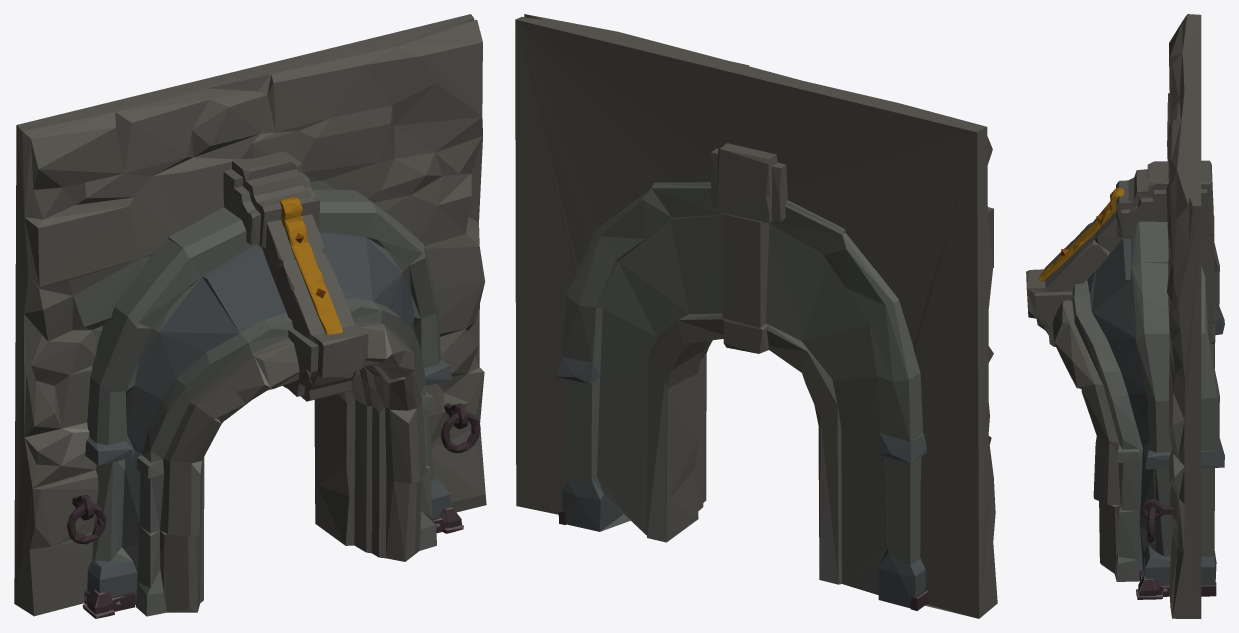
The model's file is MDungeons_Walls_Door_01.FBX.
The picture shows the model from 3 angles, left to right: view 1: azimuth 30°, elevation 25°; view 2: azimuth 150°, elevation 25°; view 3: azimuth 270°, elevation 25°; orthographic projection. The views are drawn at different scales.
Visible parts, largest first — view 1: MDungeons_Walls_Door_01_LOD0, MDungeons_Walls_Door_01_RING_A_LOD0, MDungeons_Walls_Door_01_RING_B_LOD0; view 2: MDungeons_Walls_Door_01_LOD0; view 3: MDungeons_Walls_Door_01_LOD0, MDungeons_Walls_Door_01_RING_A_LOD0.
Part boxes in pixels (x1,y1,x2,y2): MDungeons_Walls_Door_01_LOD0: (14, 14, 486, 618); MDungeons_Walls_Door_01_RING_A_LOD0: (440, 412, 480, 453); MDungeons_Walls_Door_01_RING_B_LOD0: (67, 503, 106, 544); MDungeons_Walls_Door_01_LOD0: (515, 14, 997, 618); MDungeons_Walls_Door_01_LOD0: (1026, 14, 1224, 618); MDungeons_Walls_Door_01_RING_A_LOD0: (1147, 506, 1155, 543).
Size of what is drawn, in the model's own units: 6.03 by 6.02 by 2.63.
